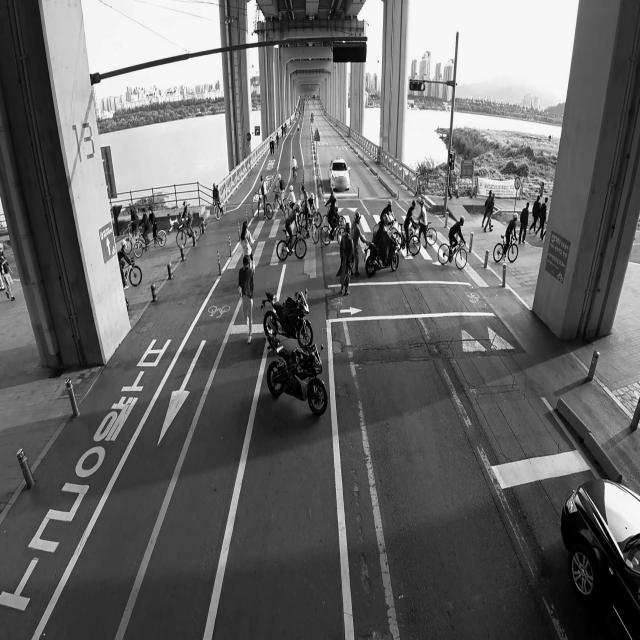Car: (554, 449, 640, 640), (328, 149, 357, 193)
Motorcycle: (363, 212, 400, 279)
